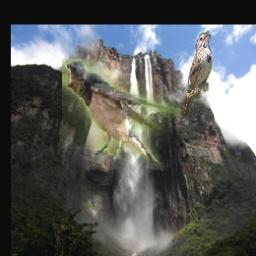Sparrow: (184, 31, 213, 117)
Swallow: (63, 60, 182, 171)
